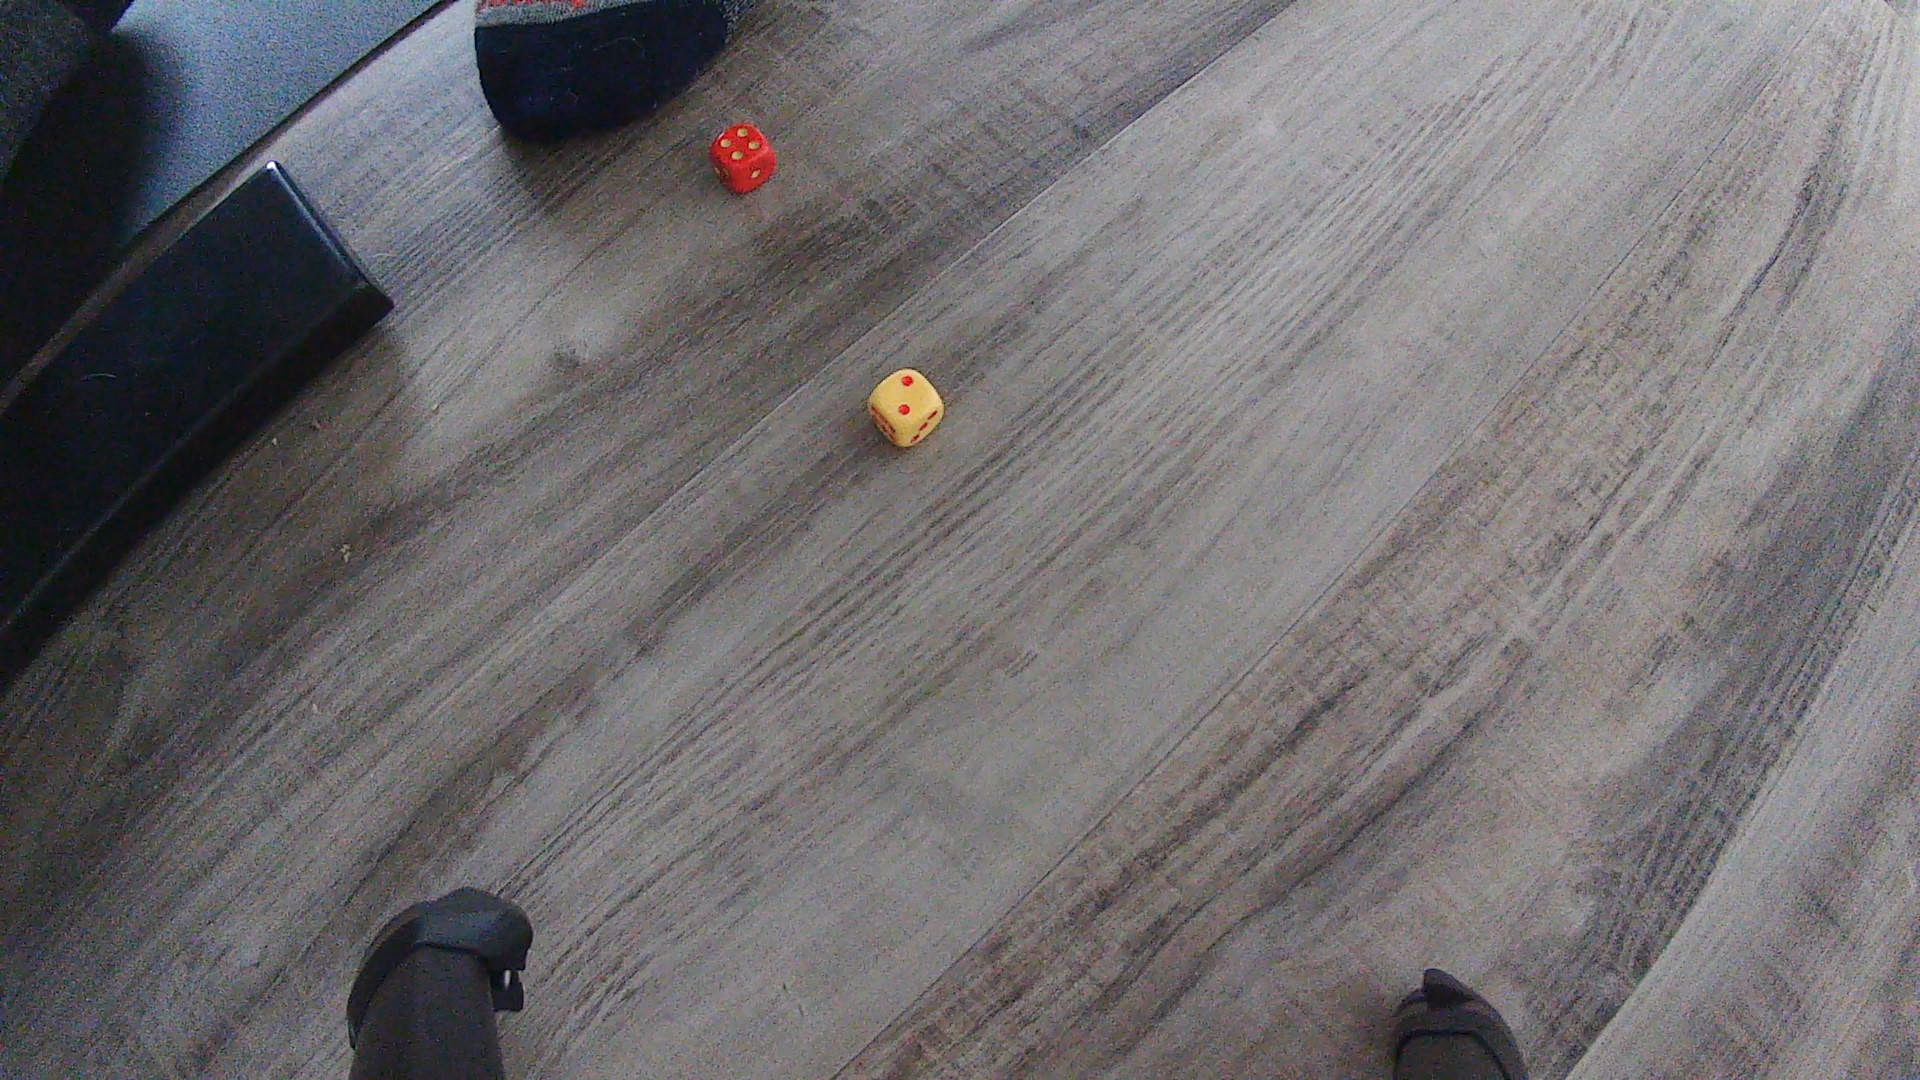die: (868, 368, 945, 448), (709, 123, 779, 194)
